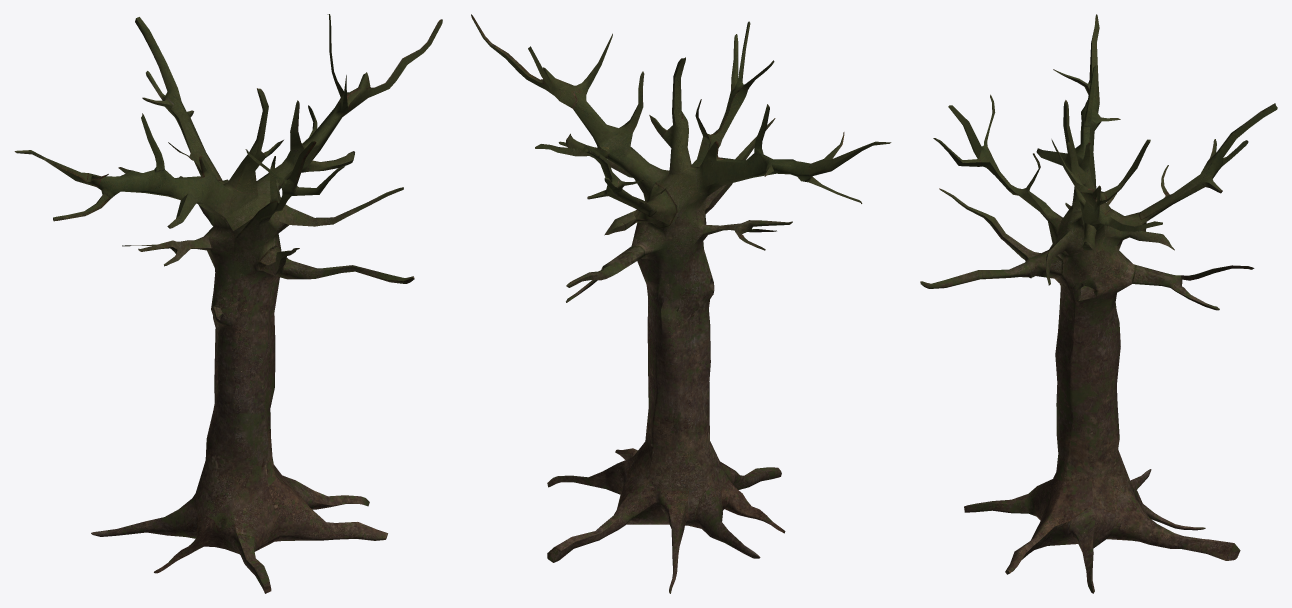
Rendered from Tree.FBX.
The picture shows the model from 3 angles, left to right: view 1: azimuth 30°, elevation 25°; view 2: azimuth 150°, elevation 25°; view 3: azimuth 270°, elevation 25°; orthographic projection. The views are drawn at different scales.
Parts seen in each view (by area): view 1: Tree; view 2: Tree; view 3: Tree.
Boxes of the visible parts, x1=… form: Tree: x1=14, y1=14, x2=442, y2=593; Tree: x1=471, y1=14, x2=891, y2=593; Tree: x1=920, y1=14, x2=1277, y2=593.
Bounding box in the file's own units: 90.18 × 99.38 × 68.59.
